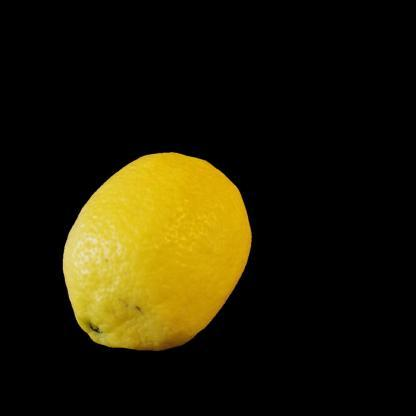lemon: (62, 151, 252, 352)
